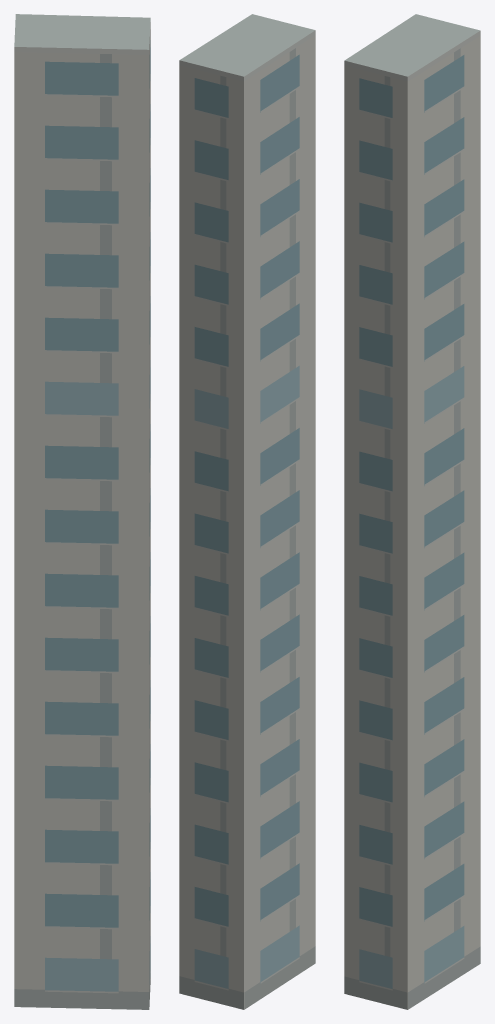
The model's file is survey-upis-32919635.glb.
The picture shows the model from 3 angles, left to right: view 1: azimuth 90°, elevation 25°; view 2: azimuth 150°, elevation 25°; view 3: azimuth 330°, elevation 25°; orthographic projection. The views are drawn at different scales.
Visible parts, largest first — view 1: survey-upis-32919635.tmp; view 2: survey-upis-32919635.tmp; view 3: survey-upis-32919635.tmp.
Boxes of the visible parts, box(x1,y1,x2,y2) form: survey-upis-32919635.tmp: box(14, 14, 150, 1009); survey-upis-32919635.tmp: box(179, 14, 315, 1009); survey-upis-32919635.tmp: box(344, 14, 480, 1009).
Bounding box in the file's own units: 3.67 × 45.75 × 5.9.
